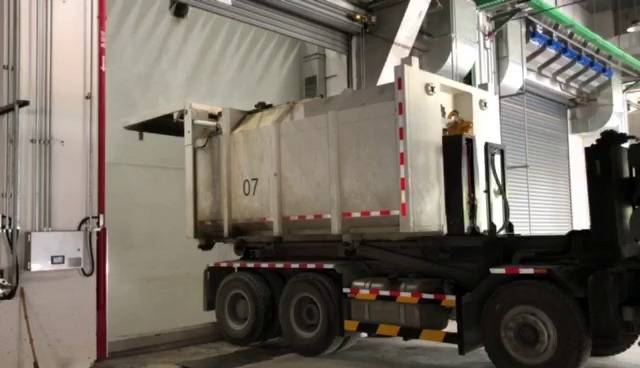dust: (110, 145, 190, 327)
truck: (180, 55, 640, 368)
